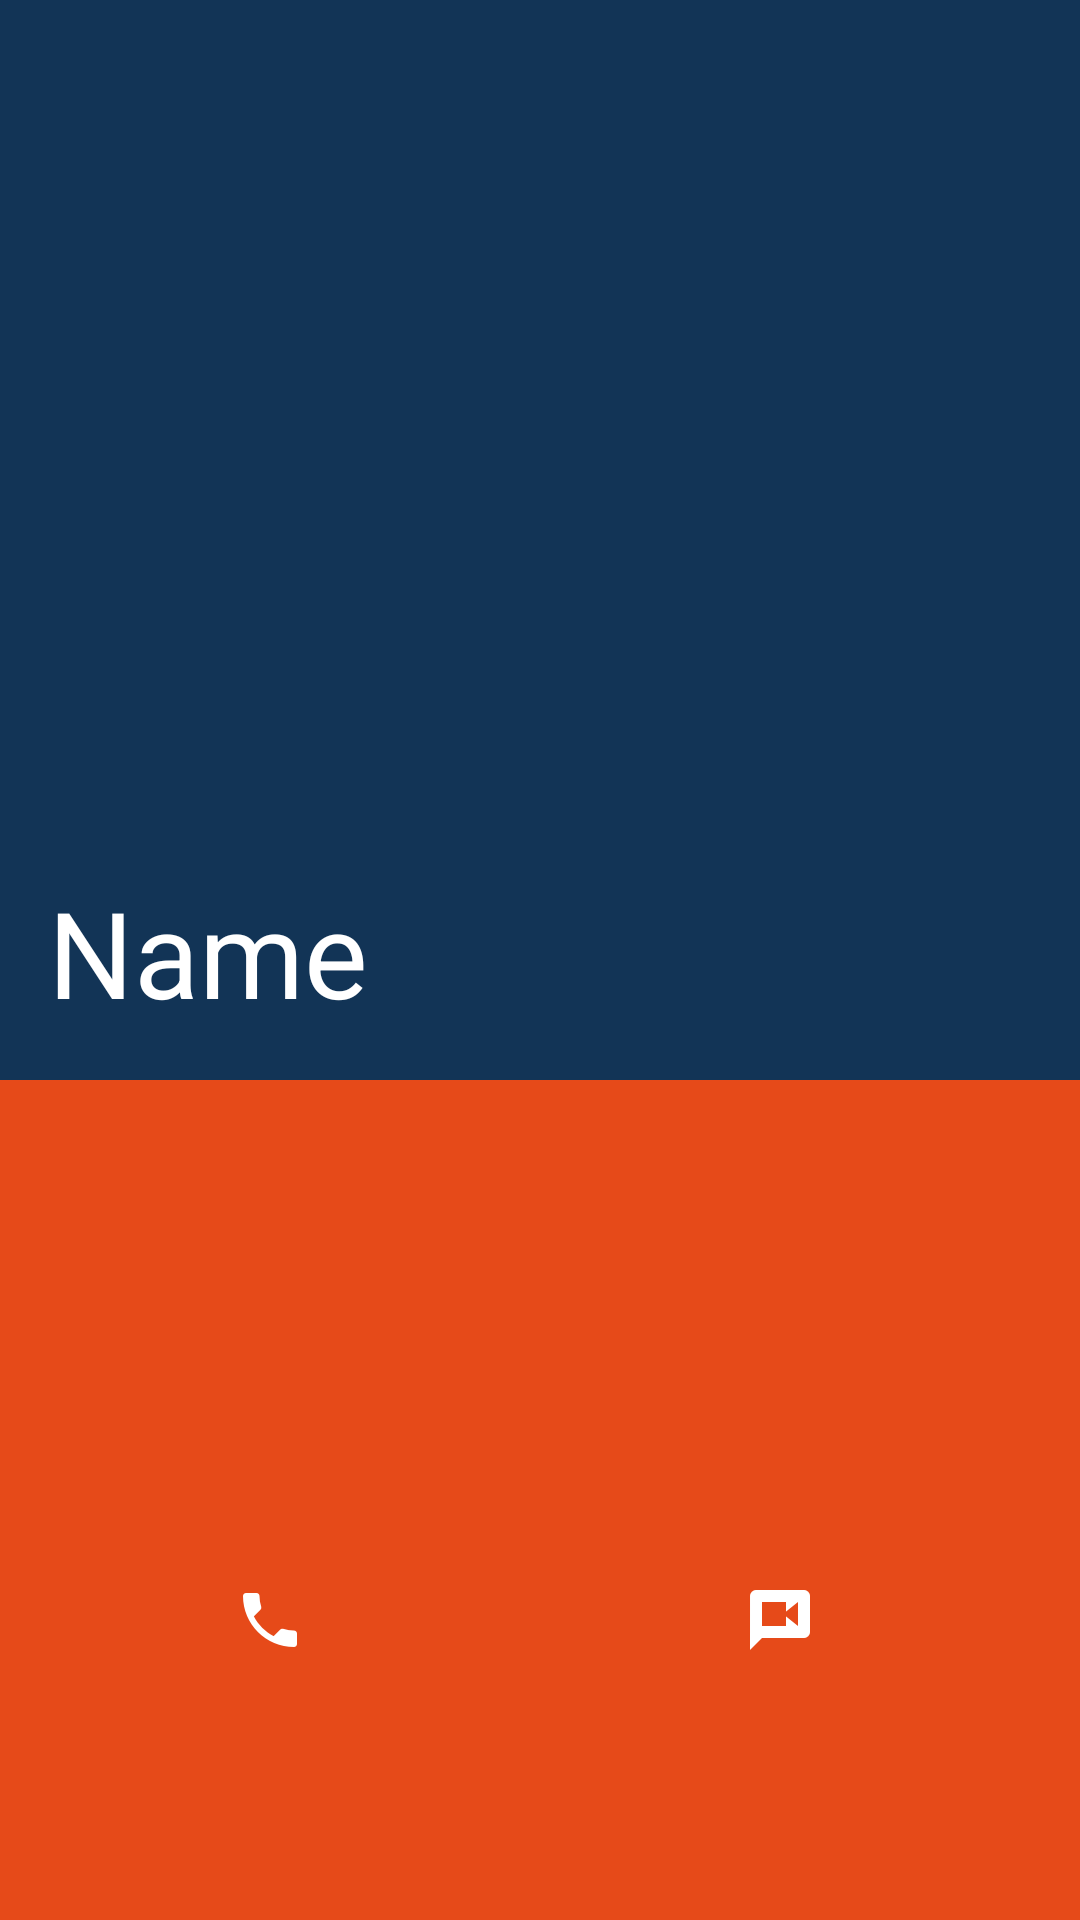

Where to tap for icons on this 1080 x 1920 app screen, as (x,y):
video call: (780,1620)
voice call: (270,1620)
